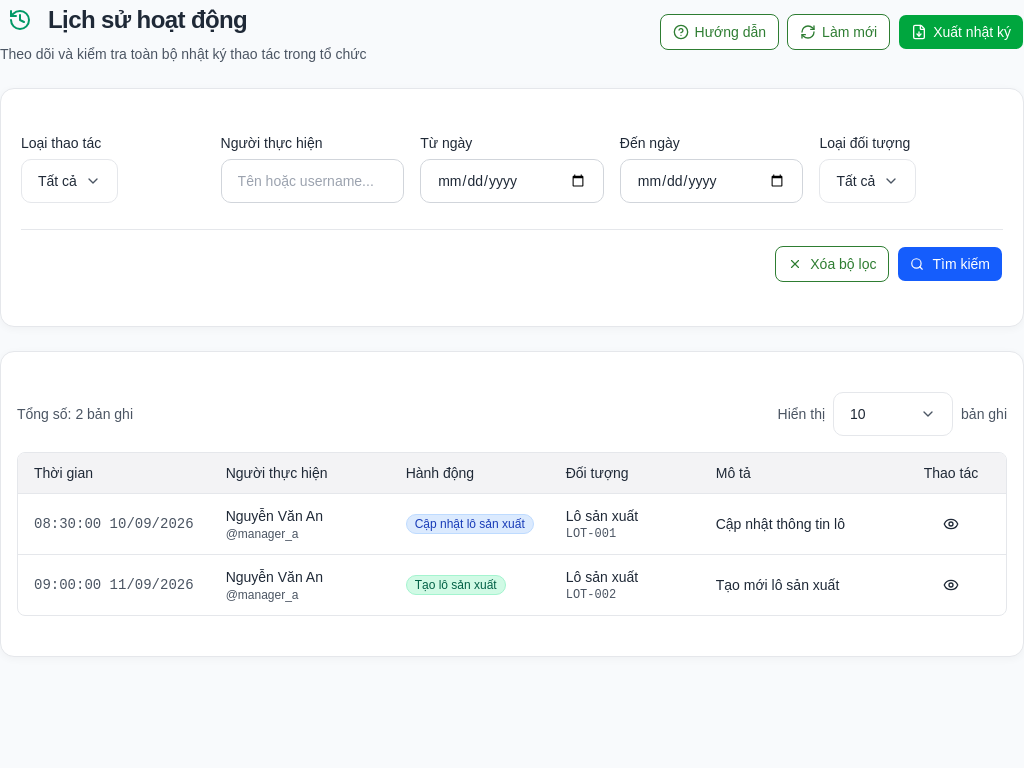
Test: ActivityLogPage E2E / Page Integration Tests › hiển thị chế độ nền và cho phép tạo export job khi dữ liệu lớn
expect the heading "Lịch sử hoạt động" is shown: met, box [48,4,247,36]
What coordinates should you click on to do the following:
click the button "Xuất nhật ký"
I would click on:
 (961, 32)
Its box is [898,14,1023,50].
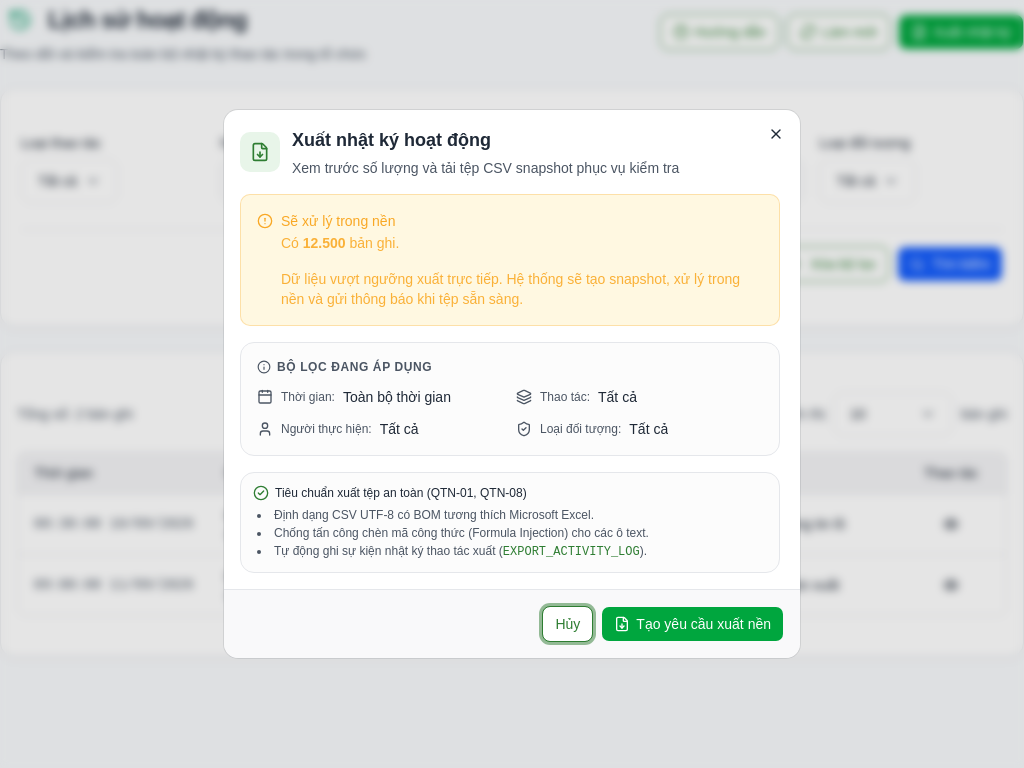
expect the text "Sẽ xử lý trong nền" is shown: met, box [281,213,395,229]
expect the text "Hệ thống sẽ tạo snapshot" is shown: met, box [281,271,740,307]
expect the button "Tạo yêu cầu xuất nền" is enabled: met, box [601,606,784,642]
